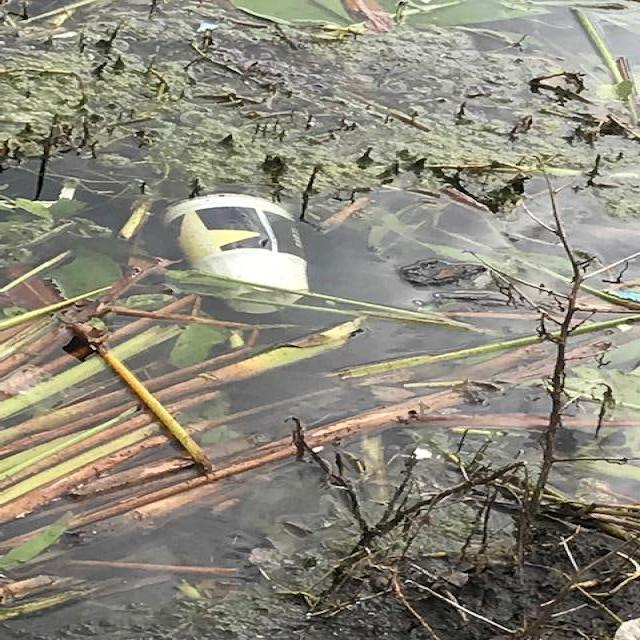litter: (256, 247, 417, 360)
